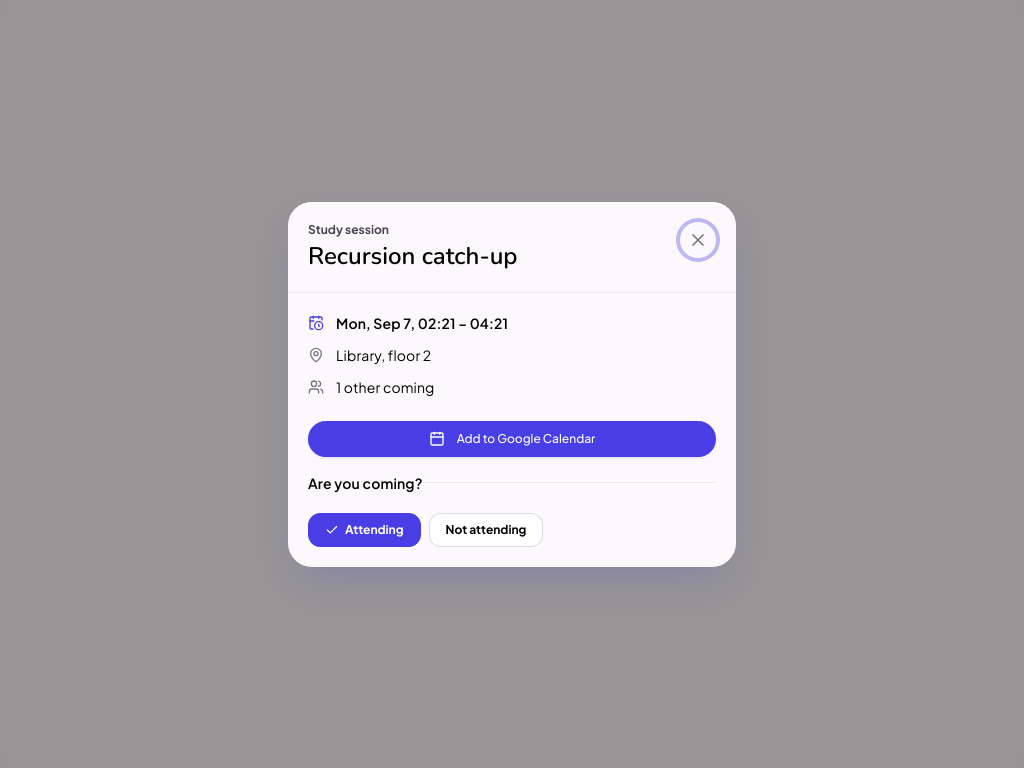
MeetingDetailsDialog › asks the student to clear their own calendar when they step out
Click the button "Not attending".
click(486, 530)  # box [428,512,543,546]
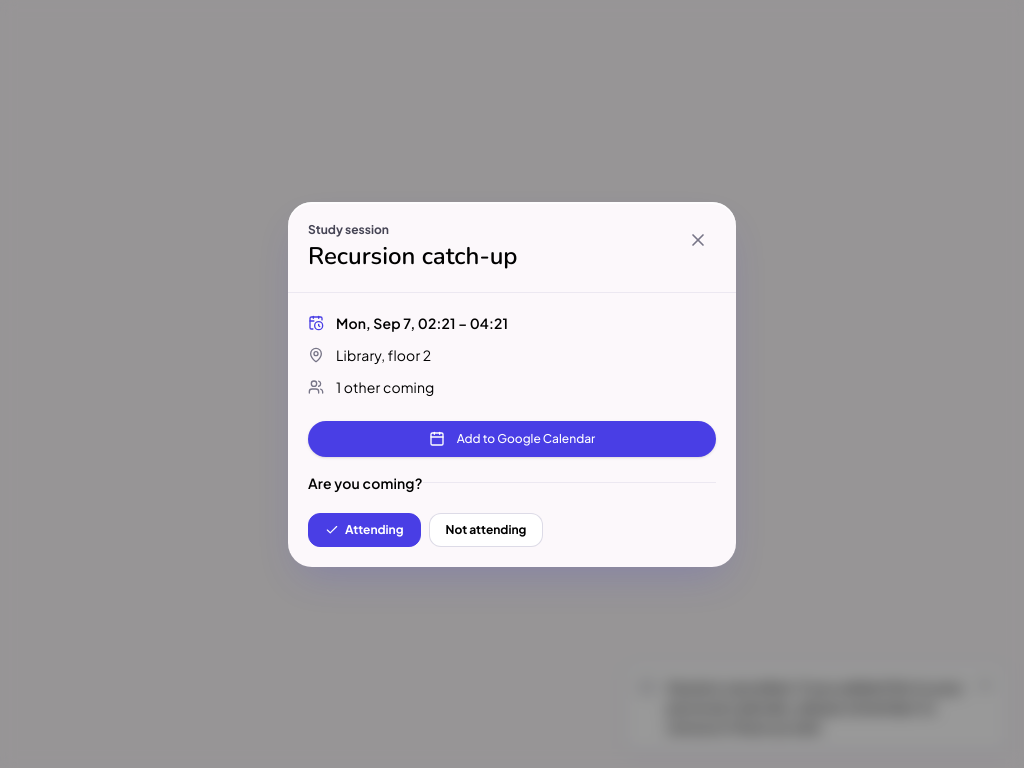
Expected: the text "remember to remove it there as well" is shown, [667,678,963,736]
